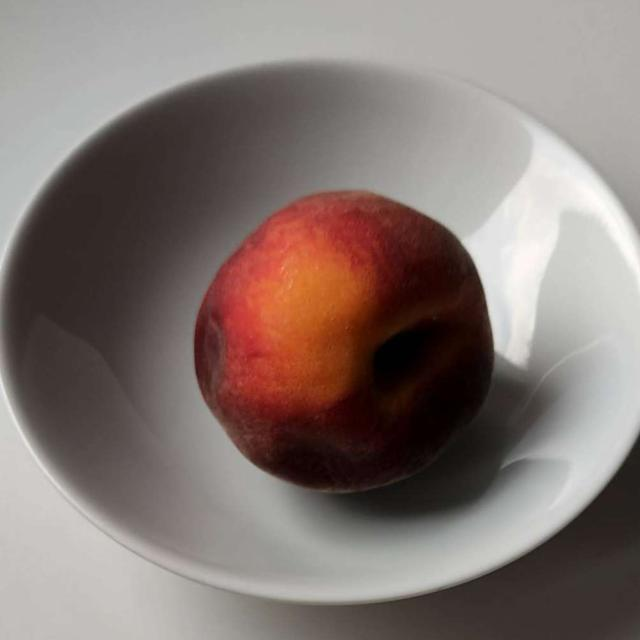peach: (195, 196, 488, 490)
